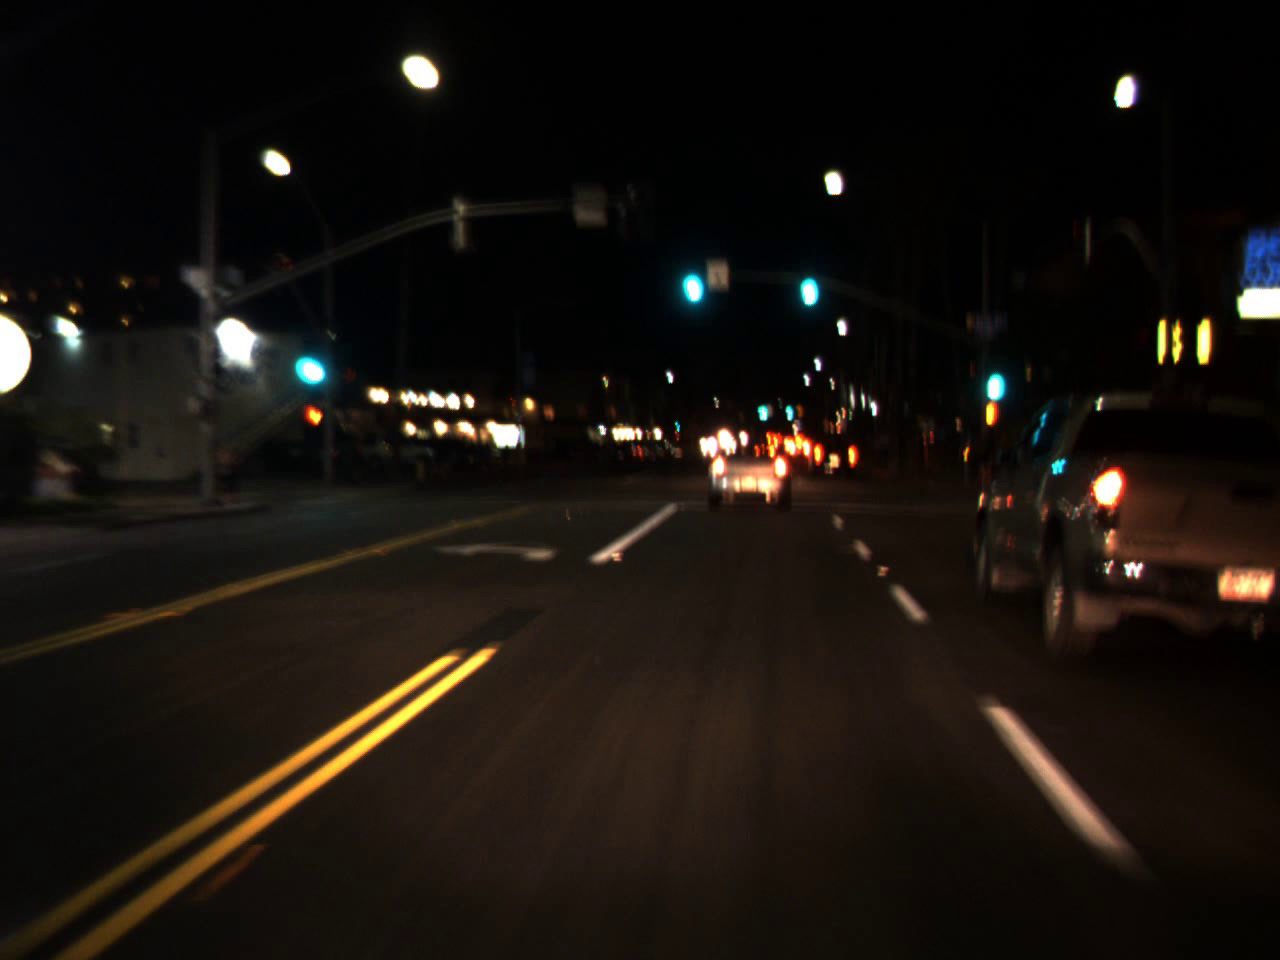go: (281, 319, 333, 397), (673, 236, 709, 314), (980, 337, 1008, 412), (794, 246, 821, 315), (753, 388, 771, 424), (783, 387, 793, 426)
